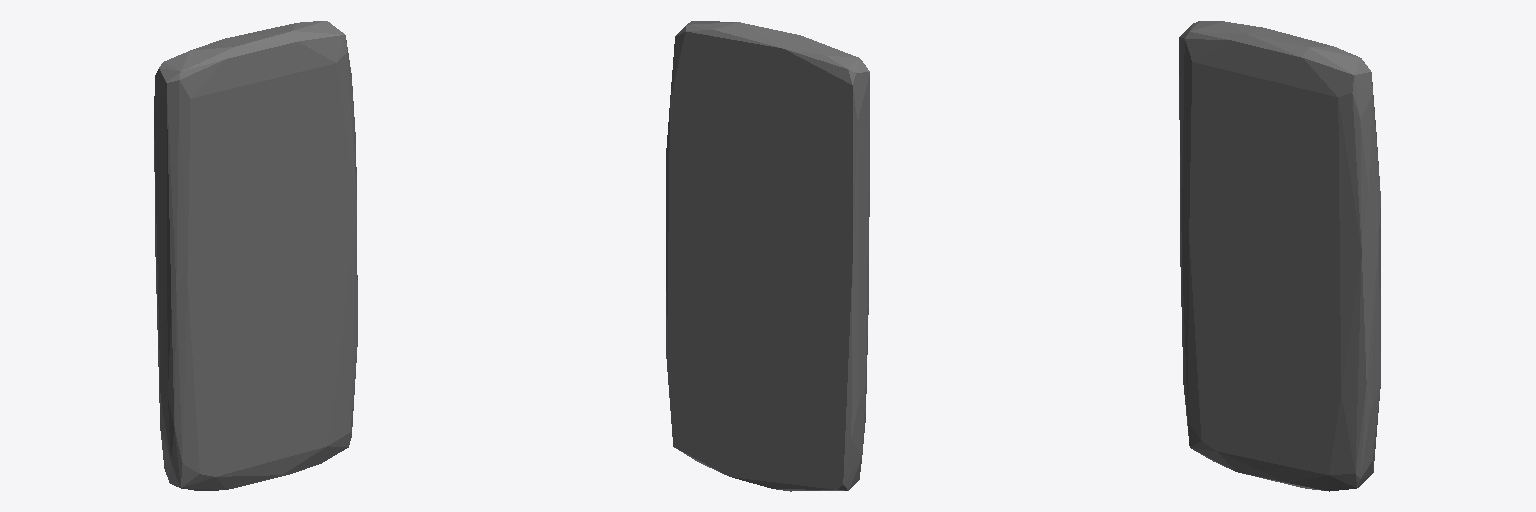
robot.urdf — cellphone_035:
<?xml version="1.0" ?>
<robot name="cellphone_035">
  <material name="color">
    <color rgba=".5 .5 .5 1"/>
  </material>

  <link name="base_link">
    <contact>
      <lateral_friction value="1.0"/>
      <rolling_friction value="0.001"/>
      <spinning_friction value="0.001"/>
      <inertia_scaling value="1.0"/>
    </contact>
    <inertial>
      <origin rpy="0 0 0" xyz="-0.000187995 0.000357049 0.000447309"/>
       <mass value="0.1"/>
       <inertia ixx="1" ixy="0" ixz="0" iyy="1" iyz="0" izz="1"/>
    </inertial>

    <visual>
      <origin rpy="0 0 0" xyz="0 0 0"/>
      <geometry>
        <mesh filename="cellphone_035_vhacd_0_of_1.obj" scale="1 1 1"/>
      </geometry>
      <material name="color"/>
    </visual>

    <collision>
      <origin rpy="0 0 0" xyz="0 0 0"/>
      <geometry>
        <mesh filename="cellphone_035_vhacd_0_of_1.obj" scale="1 1 1"/>
      </geometry>
    </collision>

  </link>
</robot>

--- Render facts (derived) ---
The picture shows the robot from 3 angles, left to right: view 1: azimuth 30°, elevation 25°; view 2: azimuth 150°, elevation 25°; view 3: azimuth 330°, elevation 25°; orthographic projection.
Model cellphone_035 with 1 links and 0 joints (none), rooted at base_link, posed all joints at 0.
Links seen in each view (by area): view 1: base_link; view 2: base_link; view 3: base_link.
Link boxes in pixels (x1,y1,x2,y2): base_link: (154,21,357,490); base_link: (666,21,869,491); base_link: (1179,21,1380,491).
Size in the robot's own frame: 0.0506 by 0.009 by 0.1109 metres.
1 mesh visuals loaded from 1 distinct referenced files (1 OBJ).